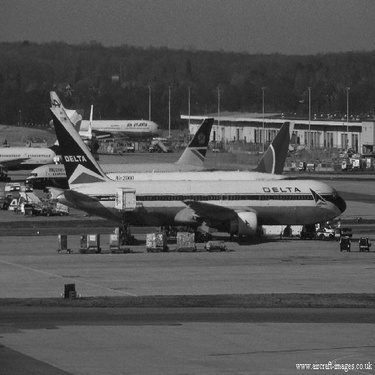airplane: (12, 77, 352, 252), (13, 113, 305, 221), (22, 108, 230, 206), (39, 93, 166, 151), (37, 97, 122, 162), (4, 127, 102, 176)
